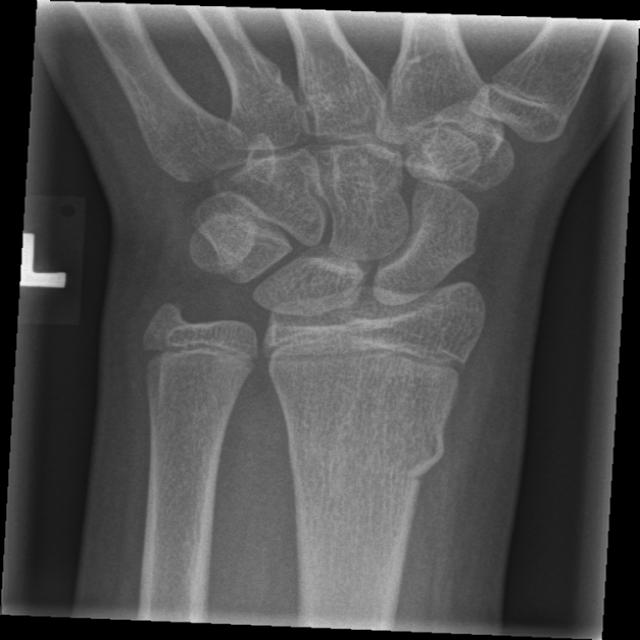radius fracture: (378, 369, 478, 575)
